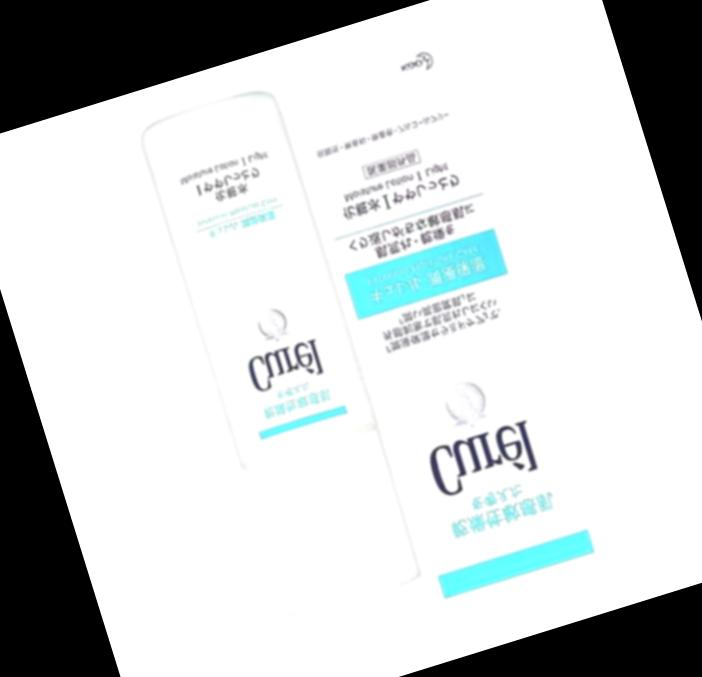cosmetic: (139, 95, 428, 619)
